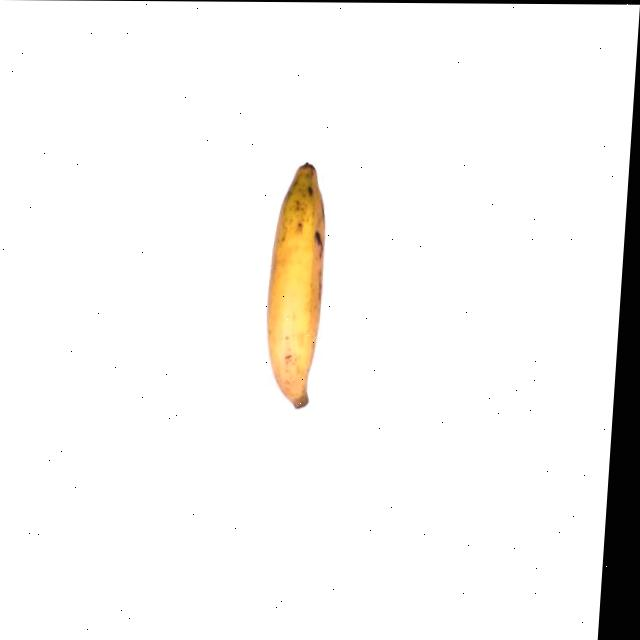banana: (257, 157, 335, 413)
